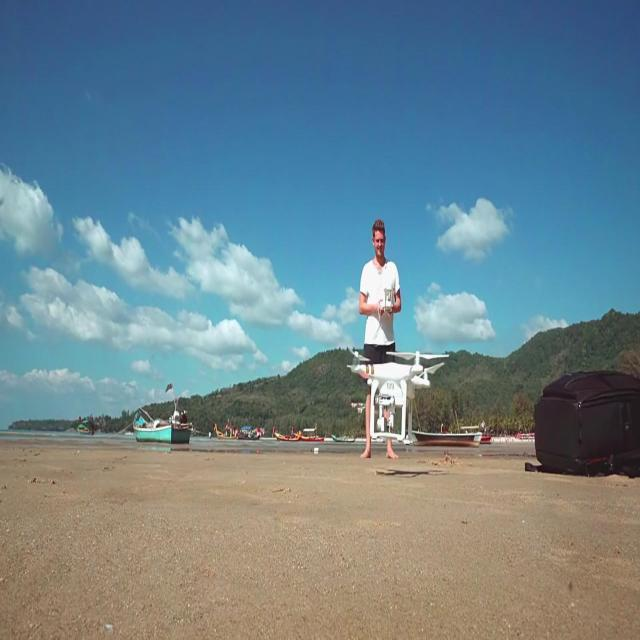drone: (348, 337, 456, 452)
